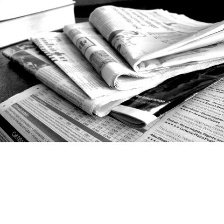news_paper: (0, 80, 224, 142), (0, 38, 162, 118), (60, 15, 224, 92), (26, 28, 178, 101), (86, 4, 224, 70)
